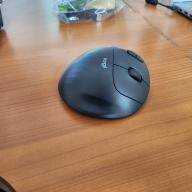mouse: (52, 32, 156, 131)
